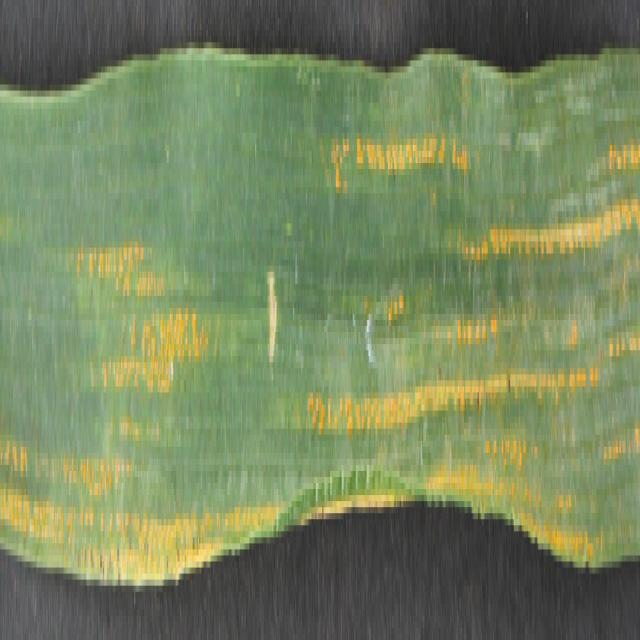leaf rust: (1, 66, 638, 592)
